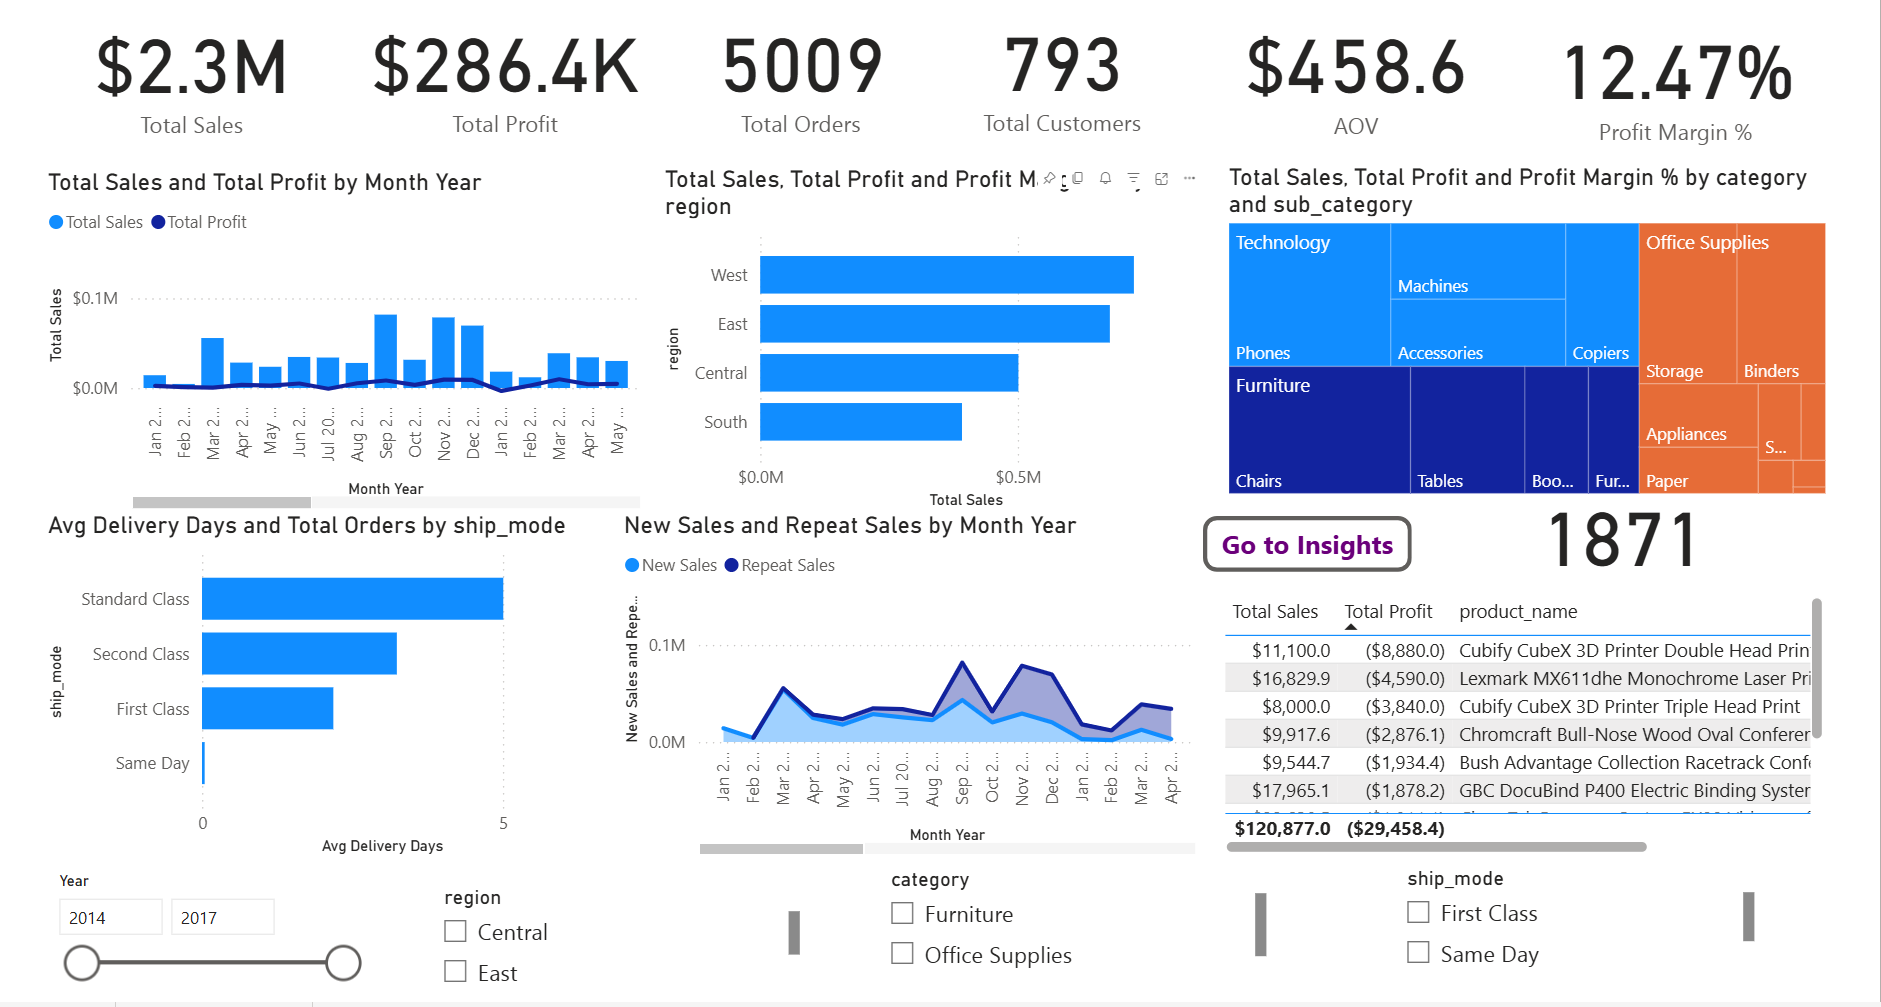

The dashboard page shown, as its layout file describes it:
{"tool":"powerbi","page":{"name":"Page 1","canvas":[1280,720],"ordinal":0},"visuals":[{"type":"card","fields":{"Values":["Measures (3).Total Sales"]},"box":[0,1.2,215.2,107],"z":0},{"type":"card","fields":{"Values":["Measures (3).Total Profit"]},"box":[216.4,1.2,230.1,105.7],"z":1000},{"type":"card","fields":{"Values":["Measures (3).Total Orders"]},"box":[446.6,1.2,192.8,105.7],"z":2000},{"type":"card","fields":{"Values":["Measures (3).Profit Margin %"]},"box":[1059.9,0,215.2,119.4],"z":3000},{"type":"card","fields":{"Values":["Measures (3).AOV"]},"box":[829.9,1.2,219,108.2],"z":4000},{"type":"card","fields":{"Values":["Measures (3).Total Customers"]},"box":[634.5,0,190.4,107],"z":5000},{"type":"lineClusteredColumnComboChart","fields":{"Y":["Measures (3).Total Sales"],"Y2":["Measures (3).Total Profit"],"Category":["Calendar.Month Year"]},"box":[0,124.4,432.9,247.5],"z":6000},{"type":"clusteredBarChart","fields":{"Category":["superstore_sales.region"],"Y":["Measures (3).Total Sales"]},"box":[440.4,121.9,389.4,250],"z":7000},{"type":"treemap","fields":{"Values":["Measures (3).Total Sales"],"Group":["superstore_sales.category"],"Details":["superstore_sales.sub_category"]},"box":[843.8,120.5,436.5,241.1],"z":8000},{"type":"clusteredBarChart","fields":{"Category":["superstore_sales.ship_mode"],"Y":["Measures (3).Avg Delivery Days"]},"box":[0,369.5,381.9,250],"z":9000},{"type":"stackedAreaChart","fields":{"Category":["Calendar.Month Year"],"Y":["superstore_sales.New Sales","superstore_sales.Repeat Sales"]},"box":[411.8,369.5,418,250],"z":10000},{"type":"slicer","fields":{"Values":["Calendar.Year"]},"box":[0,622,236.4,88.3],"z":11000},{"type":"slicer","fields":{"Values":["public vw_region_sales.region"]},"box":[274.9,631.9,272.4,88.3],"z":12000},{"type":"slicer","fields":{"Values":["superstore_sales.category"]},"box":[594.6,619.5,286.1,90.8],"z":13000},{"type":"slicer","fields":{"Values":["superstore_sales.ship_mode"]},"box":[962.8,618.2,266.2,92.1],"z":14000},{"type":"card","fields":{"Values":["Measures (3).Loss Orders"]},"box":[980.2,360.7,299.8,64.7],"z":15000},{"type":"tableEx","fields":{"Values":["Measures (3).Total Sales","Measures (3).Total Profit","superstore_sales.product_name"]},"box":[839.7,425.4,437.8,192.6],"z":16000},{"type":"actionButton","box":[829.7,373.2,149.3,39.8],"z":16001}]}

Visuals, with their boxes on the page's 1280x720 design canvas (x1, y1, x2, y2). These are canvas units, not pixel positions in the 1881x1007 screenshot, which may show the page scaled, cropped or inside an application window:
card - Measures (3).Total Sales: region(0, 1, 215, 108)
card - Measures (3).Total Profit: region(216, 1, 446, 107)
card - Measures (3).Total Orders: region(447, 1, 639, 107)
card - Measures (3).Profit Margin %: region(1060, 0, 1275, 119)
card - Measures (3).AOV: region(830, 1, 1049, 109)
card - Measures (3).Total Customers: region(634, 0, 825, 107)
lineClusteredColumnComboChart - Measures (3).Total Sales x Measures (3).Total Profit: region(0, 124, 433, 372)
clusteredBarChart - superstore_sales.region x Measures (3).Total Sales: region(440, 122, 830, 372)
treemap - Measures (3).Total Sales x superstore_sales.category: region(844, 120, 1280, 362)
clusteredBarChart - superstore_sales.ship_mode x Measures (3).Avg Delivery Days: region(0, 370, 382, 620)
stackedAreaChart - Calendar.Month Year x superstore_sales.New Sales: region(412, 370, 830, 620)
slicer - Calendar.Year: region(0, 622, 236, 710)
slicer - public vw_region_sales.region: region(275, 632, 547, 720)
slicer - superstore_sales.category: region(595, 620, 881, 710)
slicer - superstore_sales.ship_mode: region(963, 618, 1229, 710)
card - Measures (3).Loss Orders: region(980, 361, 1280, 425)
tableEx - Measures (3).Total Sales x Measures (3).Total Profit: region(840, 425, 1278, 618)
actionButton: region(830, 373, 979, 413)
